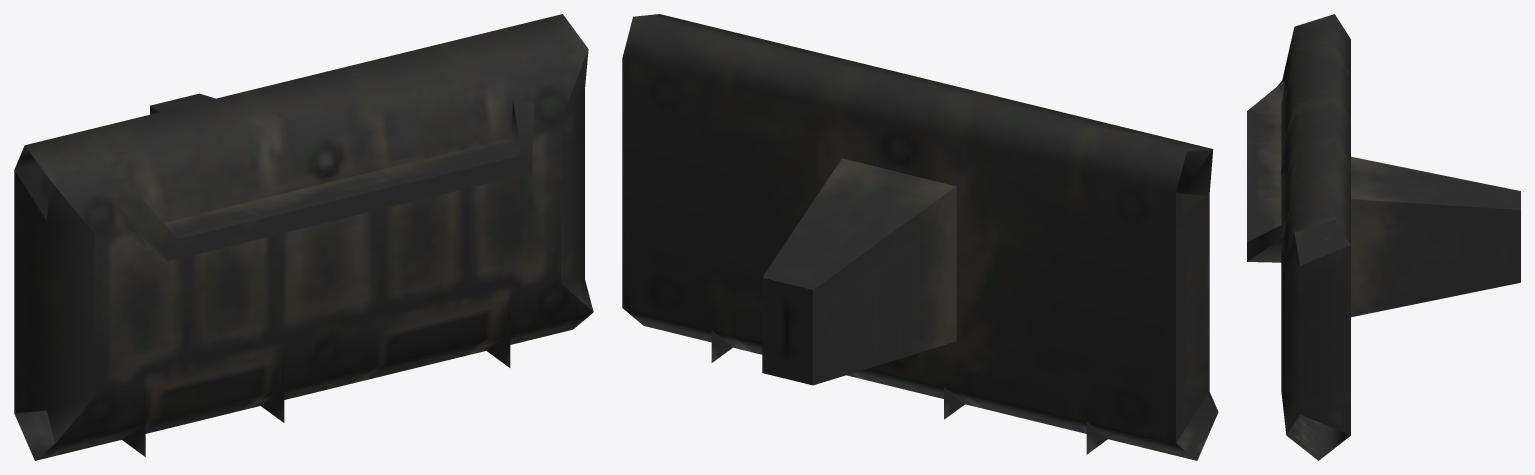
3 views of the same model, side by side, from view 1: azimuth 30°, elevation 25°; view 2: azimuth 150°, elevation 25°; view 3: azimuth 270°, elevation 25° (orthographic). The views are drawn at different scales.
Visible parts, largest first — view 1: set_0_group_0; view 2: set_0_group_0; view 3: set_0_group_0.
Part boxes in pixels (x1,y1,x2,y2): set_0_group_0: [14, 14, 593, 460]; set_0_group_0: [622, 14, 1218, 460]; set_0_group_0: [1247, 14, 1520, 460].
Size of the model in its own units: 0.3101 by 0.1696 by 0.1745.
Materials: 1 (1 with a texture image).
